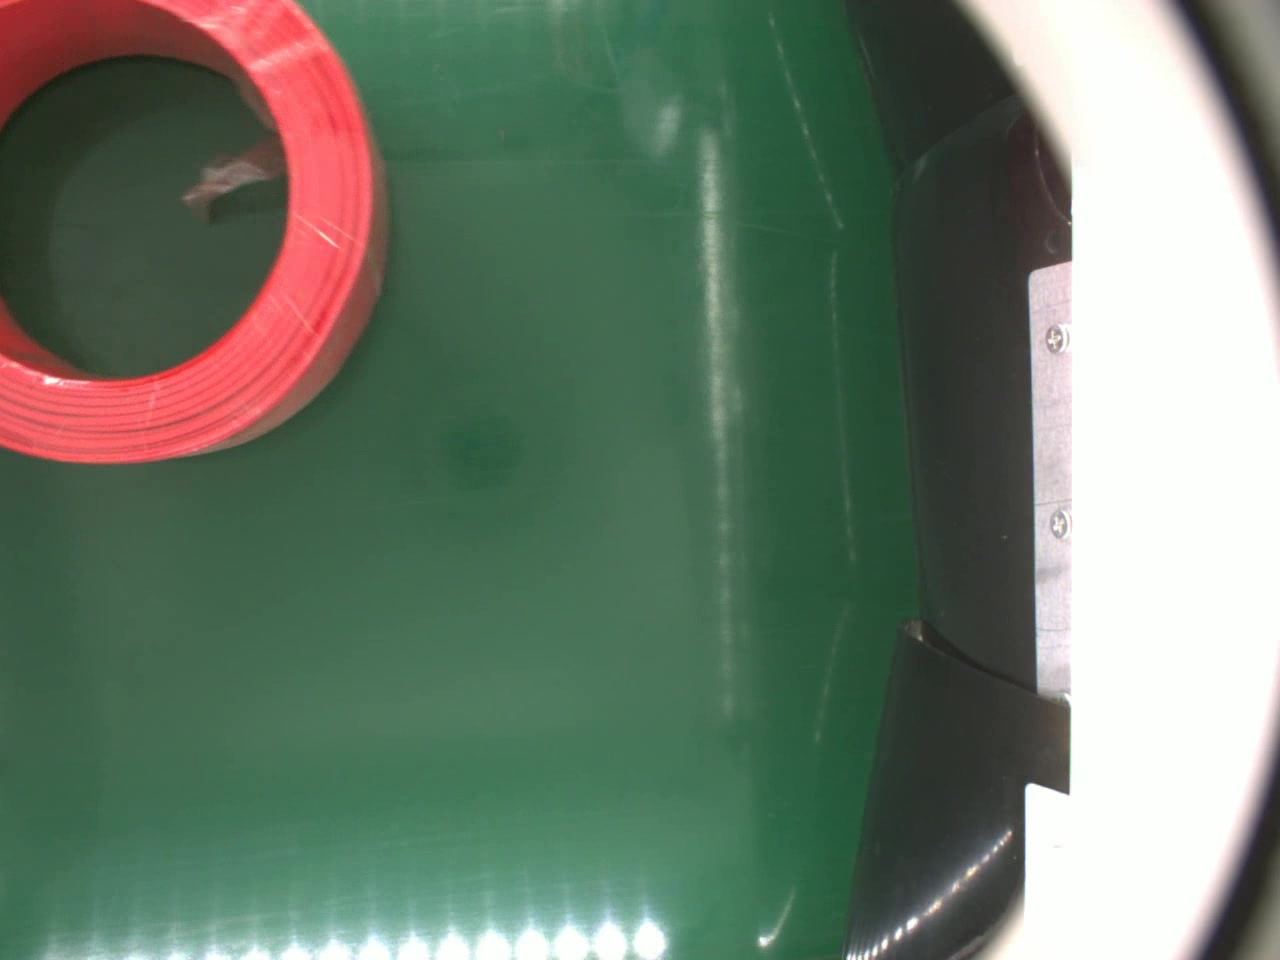red: (0, 0, 391, 468)
